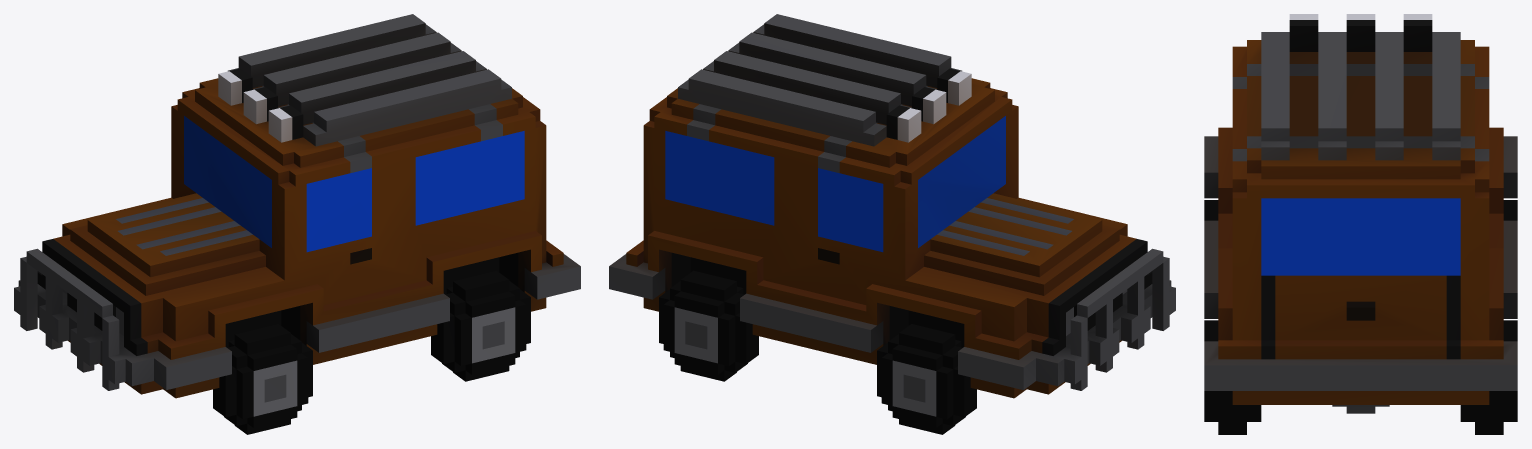
Rendered from CartoonCars_#1_AO.FBX.
The picture shows the model from 3 angles, left to right: view 1: azimuth 30°, elevation 25°; view 2: azimuth 150°, elevation 25°; view 3: azimuth 270°, elevation 25°; orthographic projection. The views are drawn at different scales.
Visible parts, largest first — view 1: CCar_01, CCar_01_Wheel_FL, CCar_01_Wheel_RL; view 2: CCar_01, CCar_01_Wheel_FR, CCar_01_Wheel_RR; view 3: CCar_01, CCar_01_Wheel_RR, CCar_01_Wheel_RL, CCar_01_Wheel_FR, CCar_01_Wheel_FL.
Part boxes in pixels (x1,y1,x2,y2): CCar_01: (14,14,580,398); CCar_01_Wheel_FL: (213,324,312,434); CCar_01_Wheel_RL: (431,270,530,381); CCar_01: (609,14,1175,398); CCar_01_Wheel_FR: (877,324,976,434); CCar_01_Wheel_RR: (659,270,758,381); CCar_01: (1204,14,1517,413); CCar_01_Wheel_RR: (1460,320,1517,434); CCar_01_Wheel_RL: (1204,320,1261,434); CCar_01_Wheel_FR: (1503,200,1517,220); CCar_01_Wheel_FL: (1204,200,1218,220).
Bounding box in the file's own units: 6229 × 3675 × 3342.
